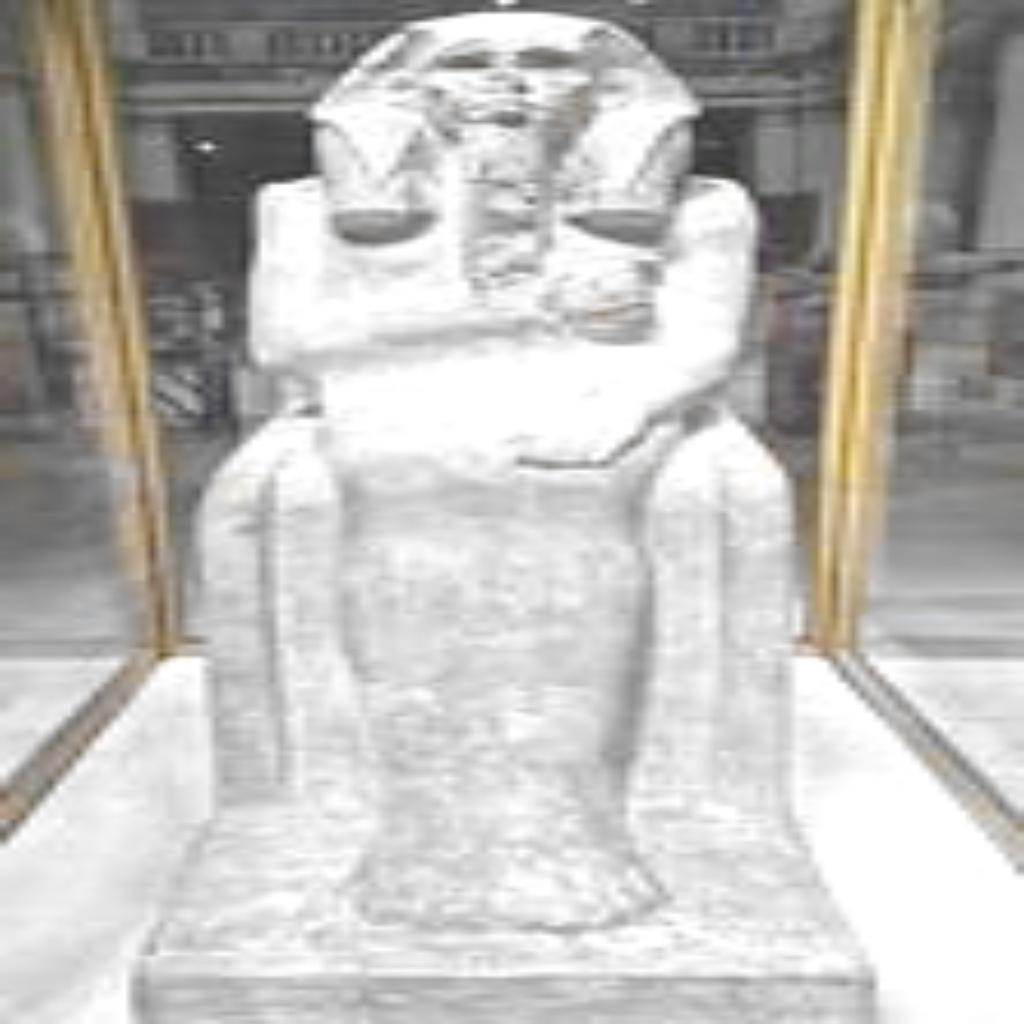Statue of King Zoser: (166, 4, 830, 943)
